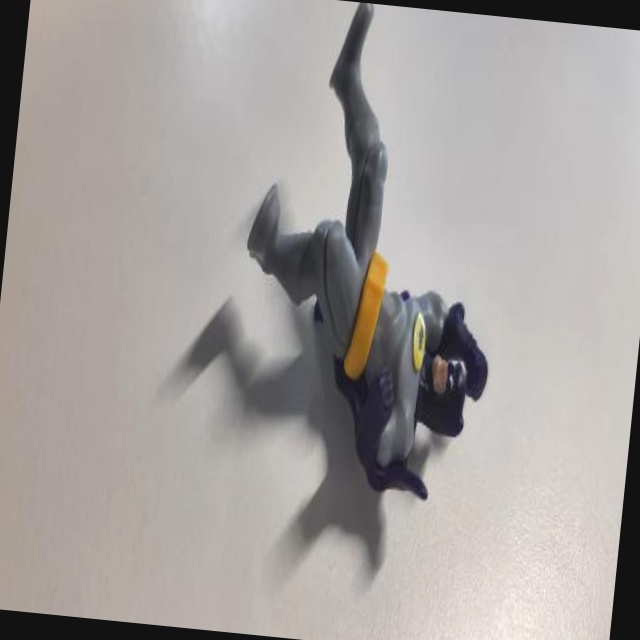Batman: (221, 0, 529, 554)
